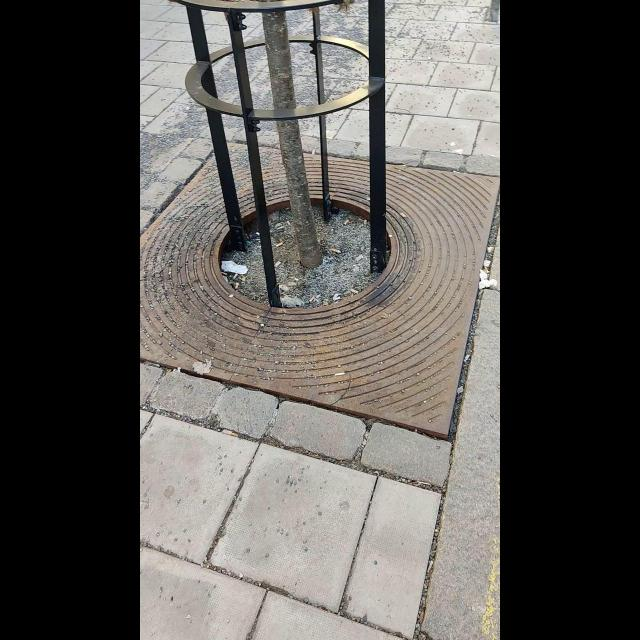cigarette: (273, 260, 282, 268), (287, 281, 298, 286), (484, 266, 490, 274), (399, 212, 406, 218), (233, 273, 238, 280), (352, 289, 359, 294), (336, 372, 344, 376), (332, 248, 340, 252), (235, 282, 239, 290), (276, 243, 283, 247), (310, 296, 314, 303), (344, 219, 348, 225), (221, 272, 227, 276), (287, 220, 290, 226), (312, 150, 315, 154)
